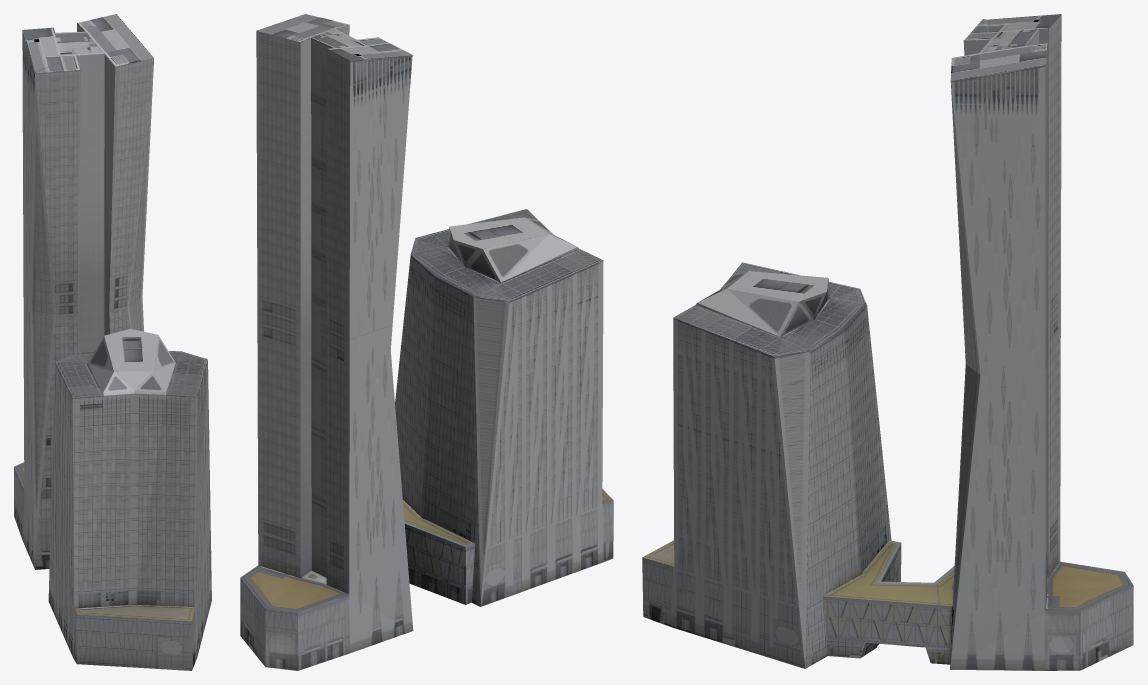
Rendered from 409_PLACED1.glb.
3 renders of one model, left to right at view 1: azimuth 30°, elevation 25°; view 2: azimuth 150°, elevation 25°; view 3: azimuth 270°, elevation 25°, orthographic. The views are drawn at different scales.
Visible parts, largest first — view 1: 4.009; view 2: 4.009; view 3: 4.009.
Boxes of the visible parts, x1,y1,x2,y2 form: 4.009: (14, 14, 211, 670); 4.009: (240, 14, 613, 670); 4.009: (642, 14, 1133, 670).
Size of the model in its own units: 64.68 by 182 by 133.
Materials: 1 (1 with a texture image).
